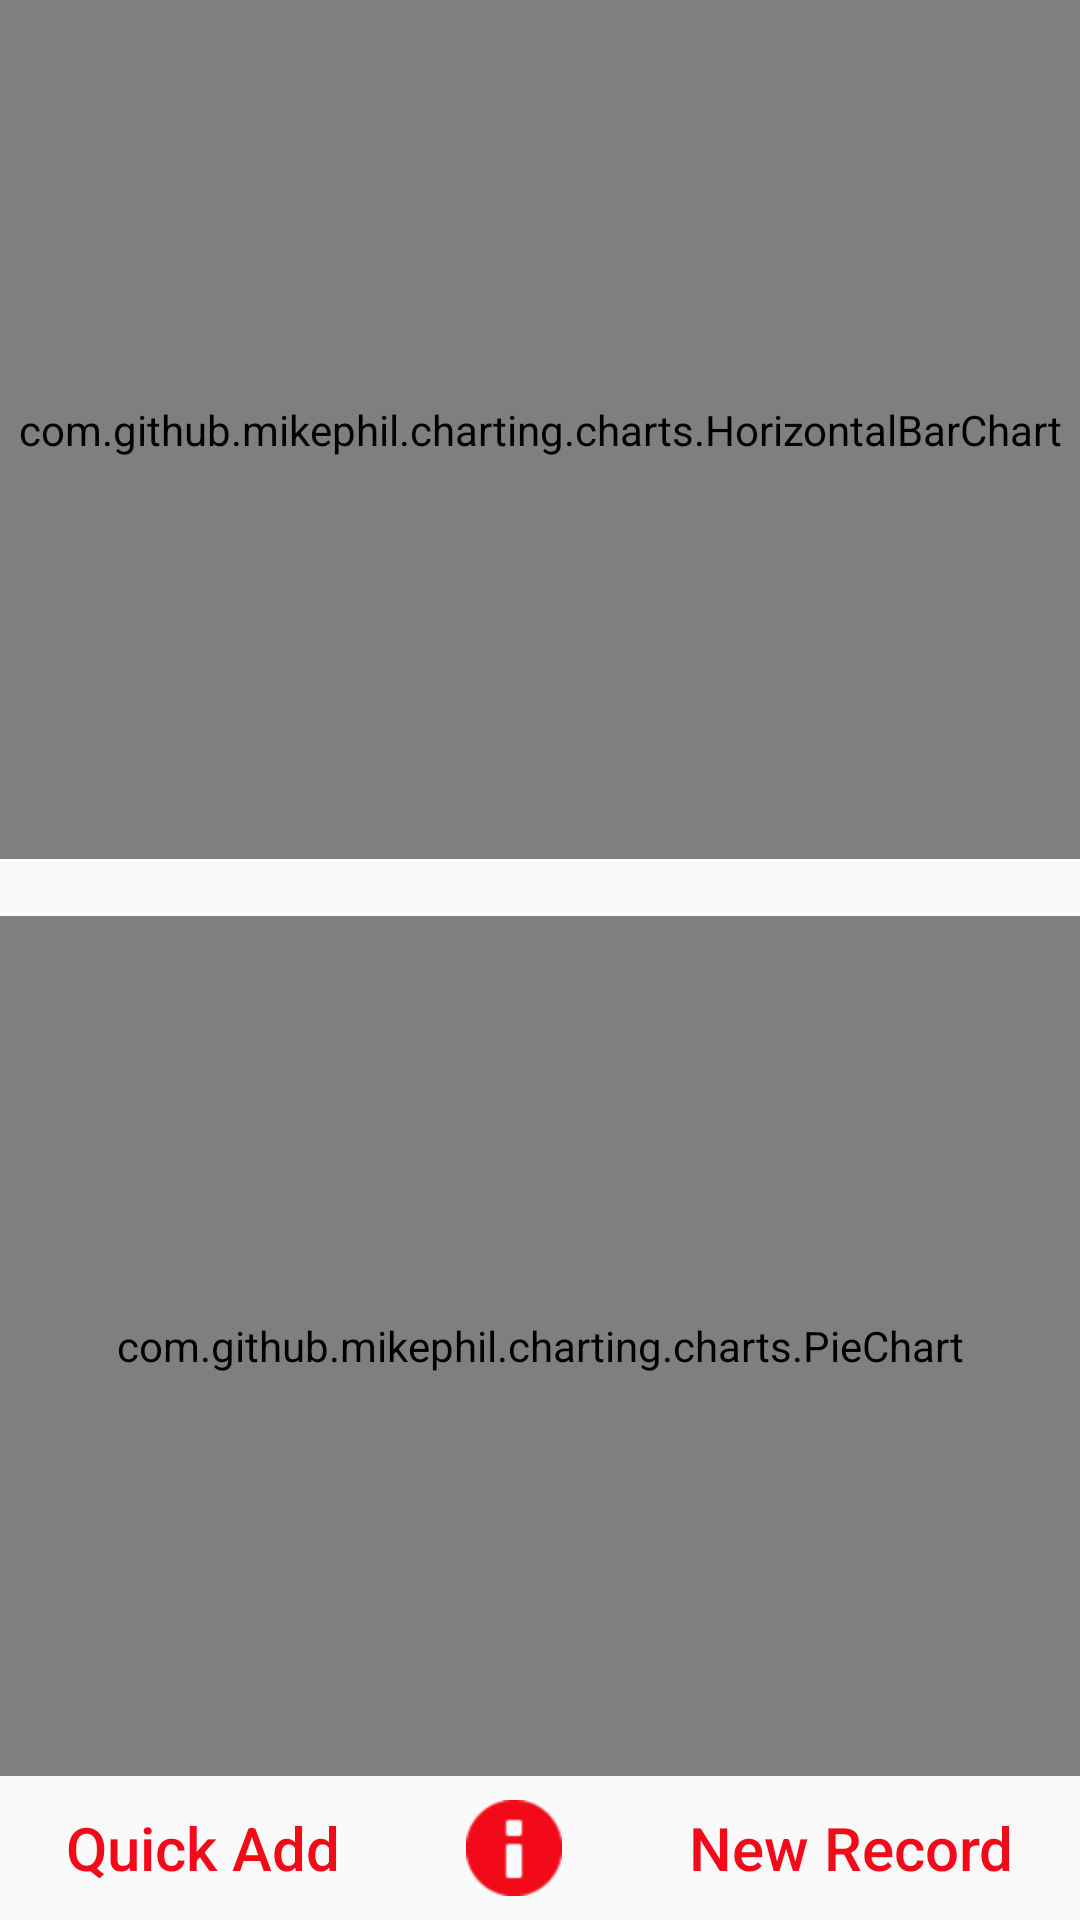

Point at icon controls on the screen. Image size 1080w x 1920h, points as (x,y).
Info Button: (514,1848)
